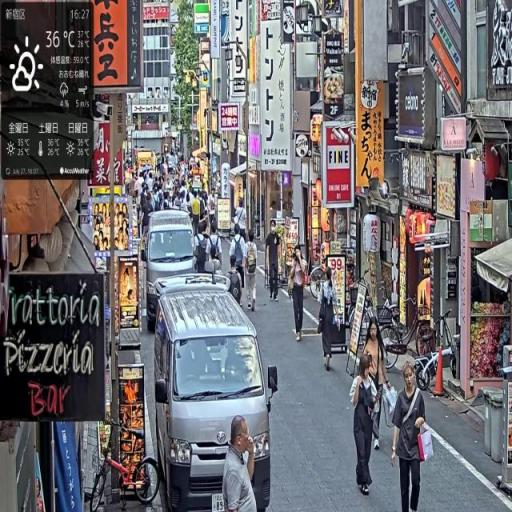person: (391, 359, 430, 512), (351, 355, 382, 499), (361, 316, 391, 454), (222, 414, 259, 512), (317, 265, 339, 374), (289, 245, 309, 343), (266, 223, 283, 304), (244, 230, 260, 315), (227, 256, 244, 307)
